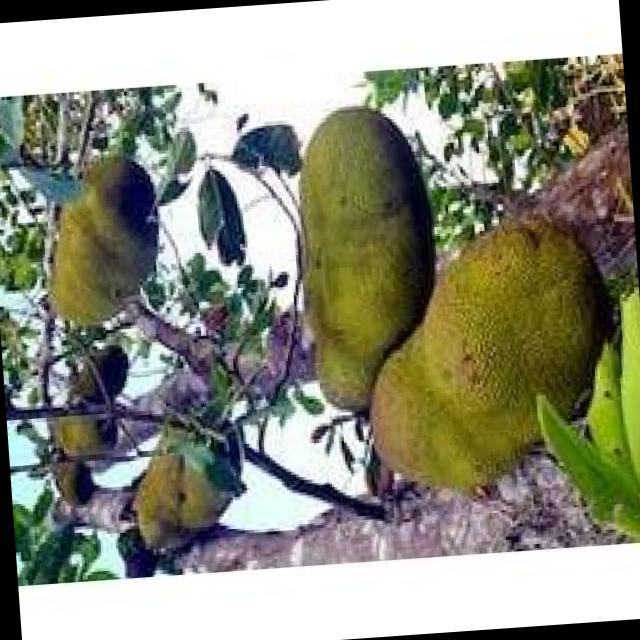Fruit: (335, 190, 640, 517), (26, 184, 170, 336)
